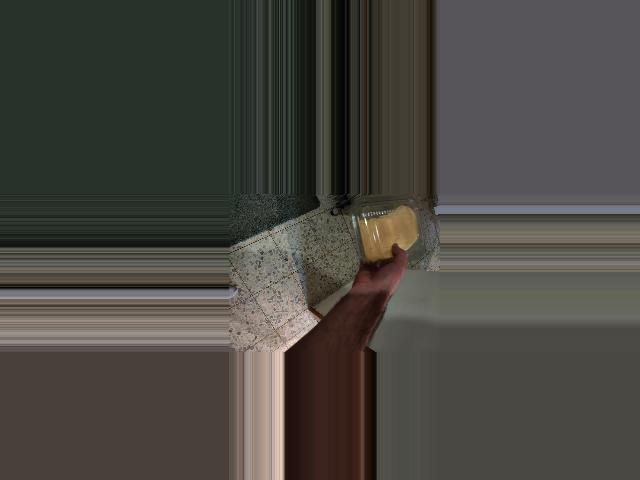cheese: (351, 200, 421, 264)
